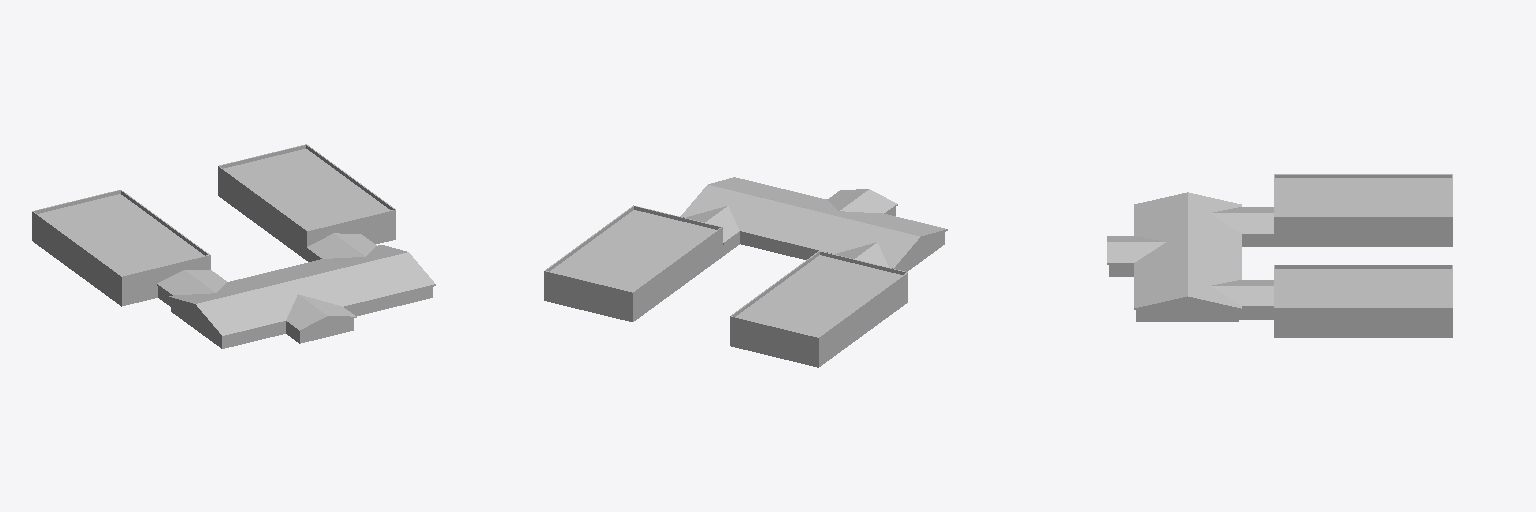
File: Muni_School_02.obj
3 renders of one model, left to right at view 1: azimuth 30°, elevation 25°; view 2: azimuth 150°, elevation 25°; view 3: azimuth 270°, elevation 25°, orthographic.
Visible parts, largest first — view 1: Mesh100 Model; view 2: Mesh100 Model; view 3: Mesh100 Model.
Boxes of the visible parts, x1=… form: Mesh100 Model: x1=32, y1=144, x2=435, y2=348; Mesh100 Model: x1=544, y1=177, x2=947, y2=367; Mesh100 Model: x1=1107, y1=174, x2=1452, y2=337.
Bounding box in the file's own units: 2889 × 300 × 3155.